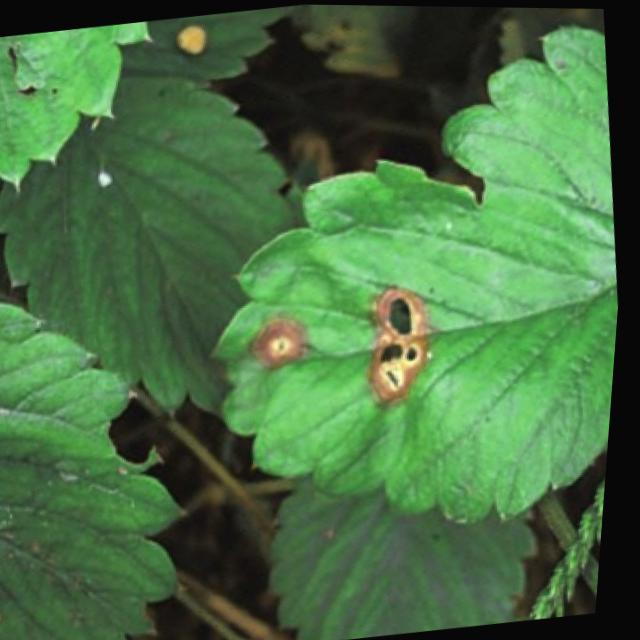Leaf Spot: (209, 21, 623, 527)
